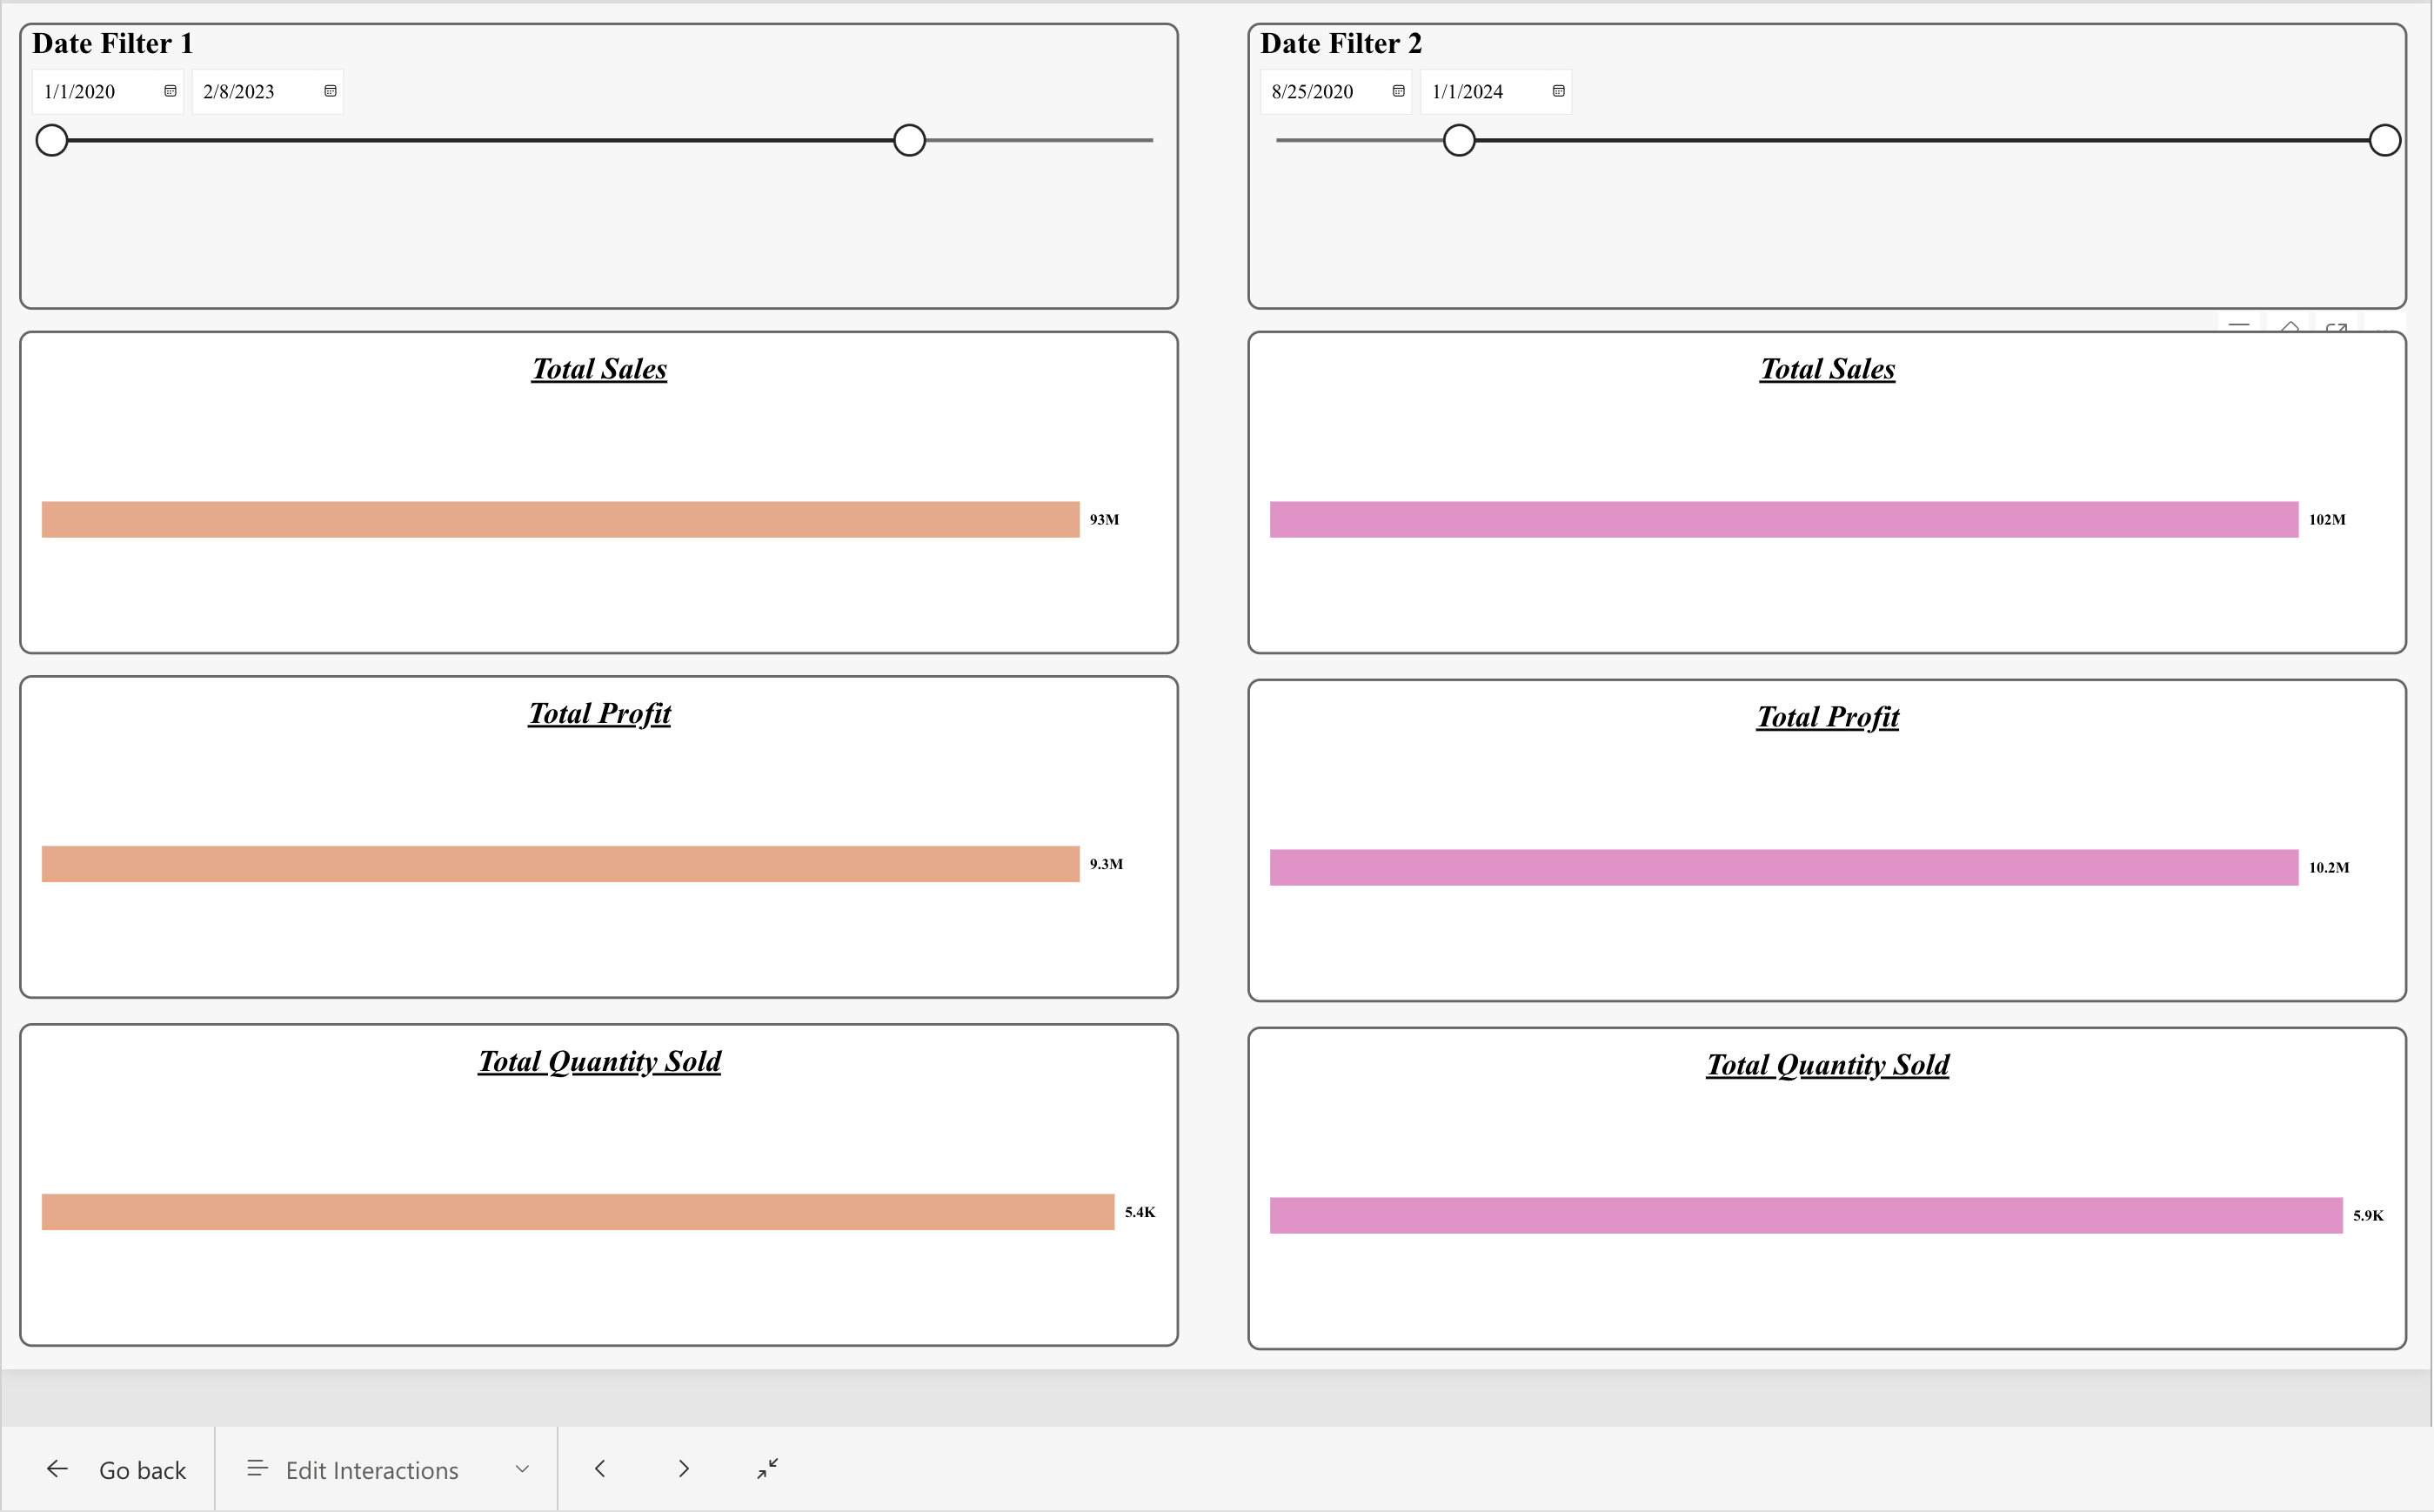

Layout of this report page (visuals, bound fields, positions):
{"tool":"powerbi","page":{"name":"Edit Interactions","canvas":[1920,1080],"ordinal":3},"visuals":[{"type":"slicer","fields":{"Values":["Fact Table.Date (dd/mm/yyyy)"]},"box":[13.6,15.5,917.1,226.9],"z":0},{"type":"slicer","fields":{"Values":["Fact Table.Date (dd/mm/yyyy)"]},"box":[985,15.5,917.1,226.9],"z":1000},{"type":"barChart","title":"Total Sales","fields":{"Y":["Sum(Fact Table.Net Sales)"]},"box":[13.6,257.9,917.1,255.9],"z":2000},{"type":"barChart","title":"Total Profit","fields":{"Y":["Sum(Fact Table.Profit)"]},"box":[13.6,531.3,917.1,255.9],"z":3000},{"type":"barChart","title":"Total Quantity Sold","fields":{"Y":["Sum(Fact Table.Units Sold)"]},"box":[13.6,806.6,917.1,255.9],"z":4000},{"type":"barChart","title":"Total Sales","fields":{"Y":["Sum(Fact Table.Net Sales)"]},"box":[985,257.9,917.1,255.9],"z":5000},{"type":"barChart","title":"Total Profit","fields":{"Y":["Sum(Fact Table.Profit)"]},"box":[985,533.8,917.1,255.9],"z":6000},{"type":"barChart","title":"Total Quantity Sold","fields":{"Y":["Sum(Fact Table.Units Sold)"]},"box":[985,809.2,917.1,255.9],"z":7000}]}

Visuals, with their boxes on the page's 1920x1080 design canvas (x1, y1, x2, y2). These are canvas units, not pixel positions in the 2434x1512 screenshot, which may show the page scaled, cropped or inside an application window:
slicer - Fact Table.Date (dd/mm/yyyy): l=14, t=16, r=931, b=242
slicer - Fact Table.Date (dd/mm/yyyy): l=985, t=16, r=1902, b=242
"Total Sales" barChart: l=14, t=258, r=931, b=514
"Total Profit" barChart: l=14, t=531, r=931, b=787
"Total Quantity Sold" barChart: l=14, t=807, r=931, b=1062
"Total Sales" barChart: l=985, t=258, r=1902, b=514
"Total Profit" barChart: l=985, t=534, r=1902, b=790
"Total Quantity Sold" barChart: l=985, t=809, r=1902, b=1065
